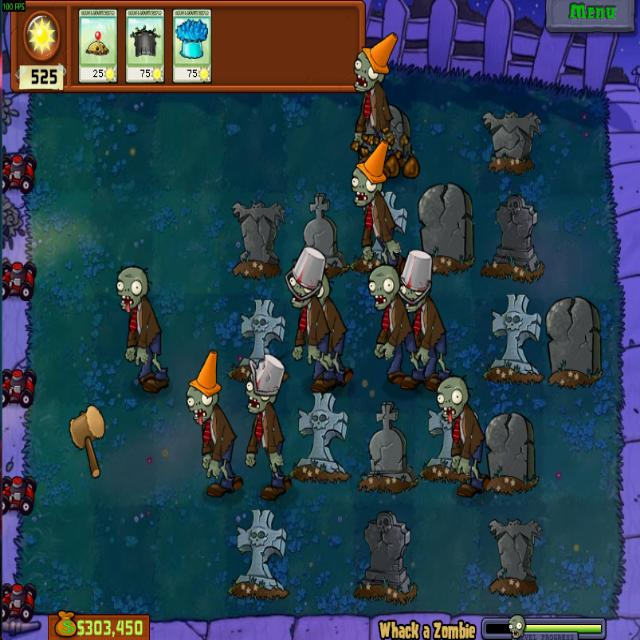buckethead: (239, 354, 284, 414), (399, 246, 434, 311), (288, 247, 323, 309)
conehead: (348, 33, 398, 95), (186, 350, 220, 424), (351, 144, 388, 208)
grave: (354, 511, 418, 604), (483, 292, 543, 385), (227, 509, 288, 598), (291, 394, 350, 482), (417, 182, 474, 270), (359, 402, 414, 493), (485, 194, 541, 279), (485, 515, 543, 597), (548, 297, 600, 388), (484, 407, 537, 495), (420, 402, 476, 482), (235, 298, 288, 377), (228, 200, 283, 275), (481, 106, 539, 171), (300, 192, 345, 273), (360, 101, 408, 167), (367, 193, 406, 264)
gravebuster: (126, 10, 164, 82)
zombie: (361, 259, 402, 314), (112, 261, 154, 314), (434, 377, 471, 425), (314, 274, 335, 308)
